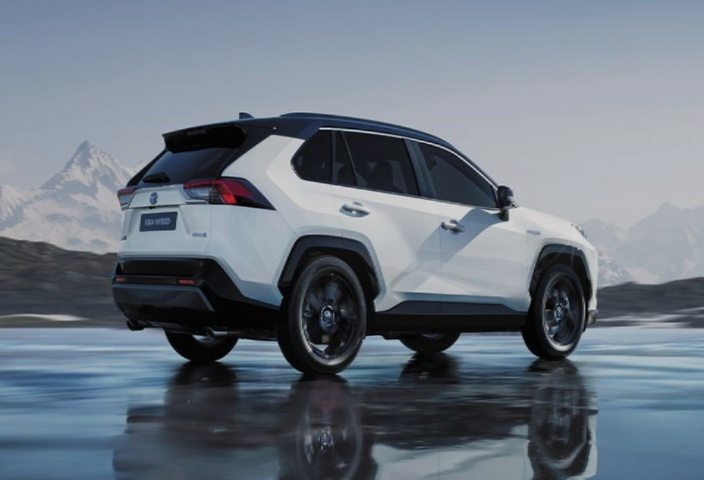camper: (94, 87, 607, 381)
